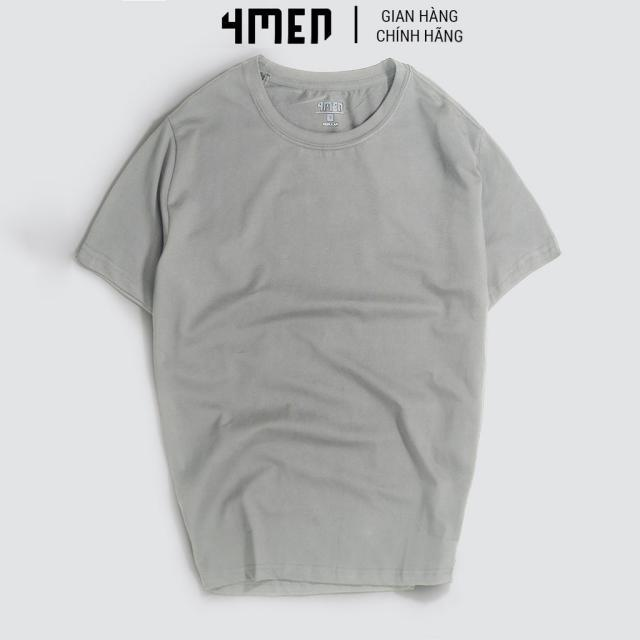Shirt: (75, 51, 558, 610)
